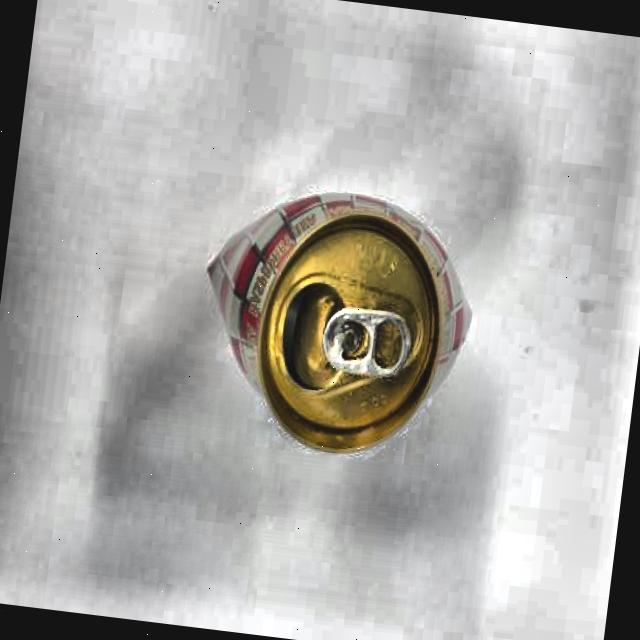metal: (184, 175, 486, 468)
